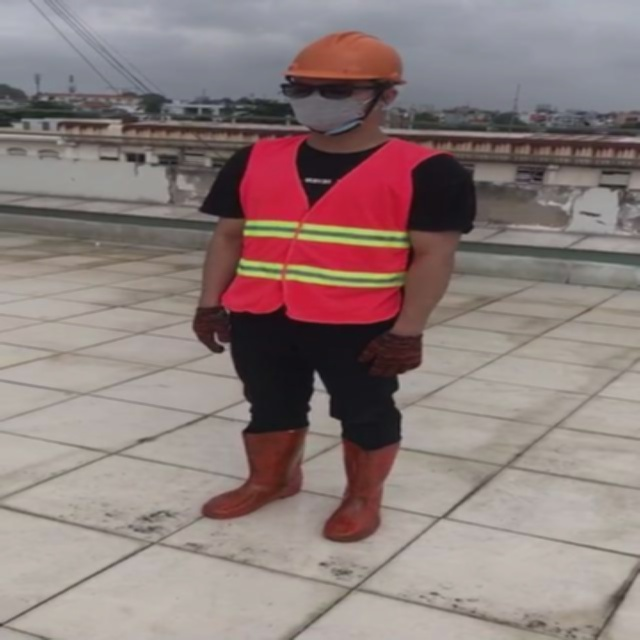boots: (331, 425, 441, 521), (238, 443, 320, 544)
gloves: (207, 307, 296, 390), (386, 276, 466, 354)
helmet: (226, 28, 358, 86)
vest: (226, 134, 414, 323)
